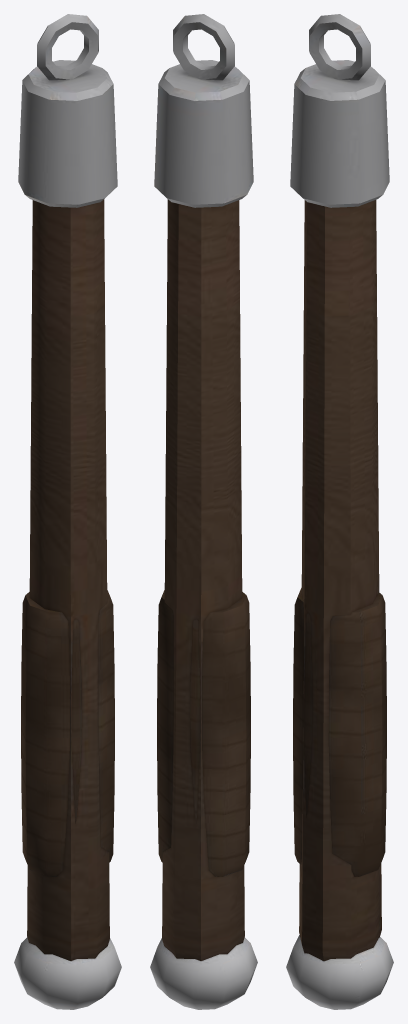
File: flail.glb
3 renders of one model, left to right at view 1: azimuth 30°, elevation 25°; view 2: azimuth 150°, elevation 25°; view 3: azimuth 330°, elevation 25°, orthographic.
Parts seen in each view (by area): view 1: SM_V_flail, SM_V_flail_Faste; view 2: SM_V_flail, SM_V_flail_Faste; view 3: SM_V_flail, SM_V_flail_Faste.
Boxes of the visible parts, x1=… form: SM_V_flail: x1=18, y1=14, x2=117, y2=960; SM_V_flail_Faste: x1=14, y1=937, x2=121, y2=1009; SM_V_flail: x1=154, y1=14, x2=253, y2=960; SM_V_flail_Faste: x1=150, y1=937, x2=257, y2=1009; SM_V_flail: x1=290, y1=14, x2=389, y2=961; SM_V_flail_Faste: x1=286, y1=935, x2=393, y2=1009.
Bounding box in the file's own units: 0.052 × 0.5238 × 0.0495.
Materials: 1 (1 with a texture image).
